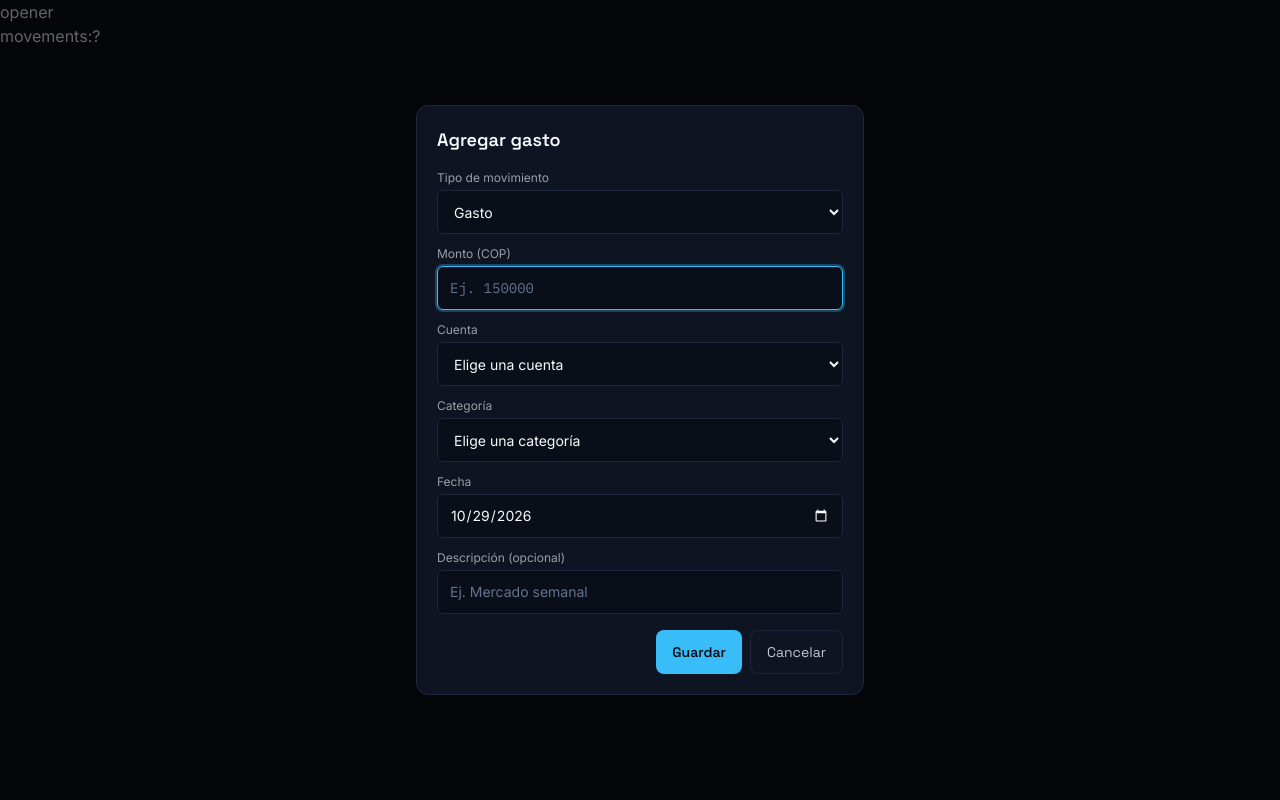
Scenario: MovementModal › posts the amount as a decimal string and revalidates finance/movements
The width and height of the screenshot is (1280, 800).
Type "25000" into the field labelled "Monto (COP)" at (640, 288), box left=437, top=266, right=843, bottom=310
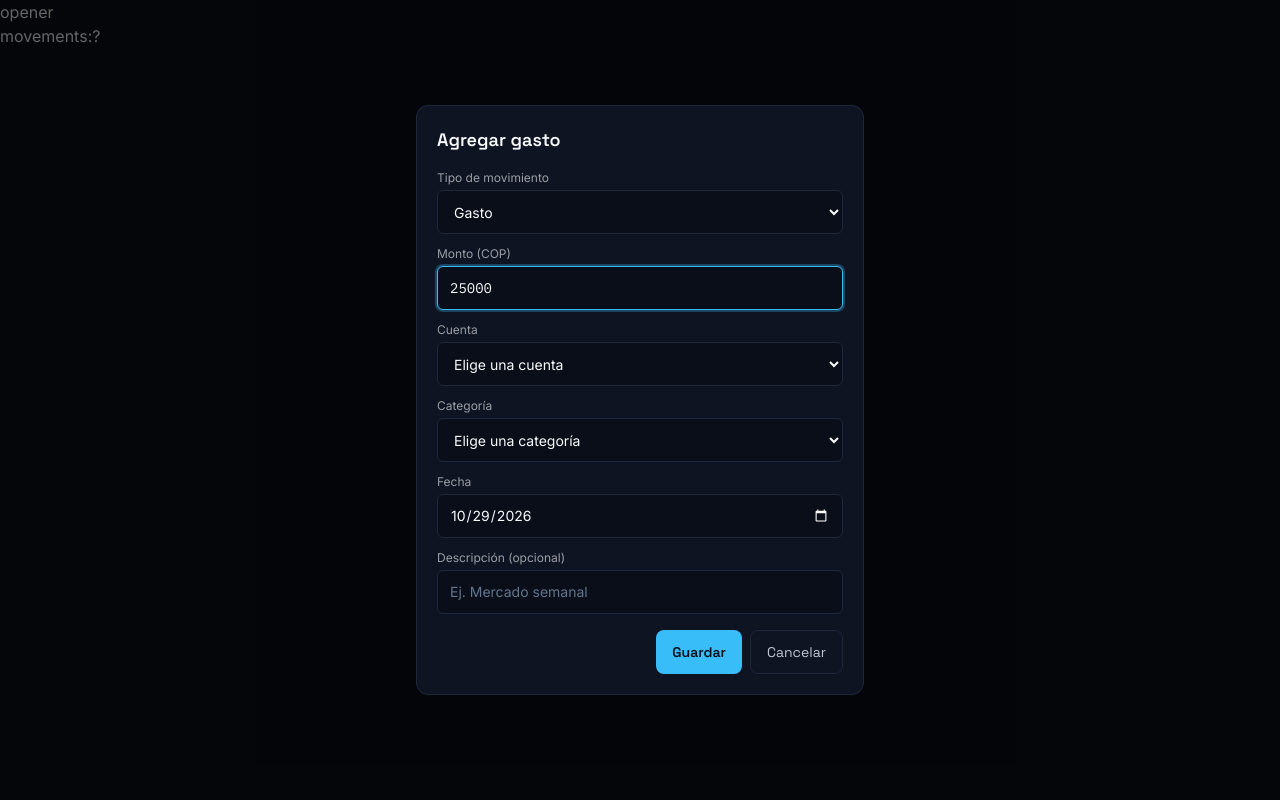
Select "Cuenta principal" in the dropdown labelled "Cuenta" at (640, 364), box left=437, top=342, right=843, bottom=386
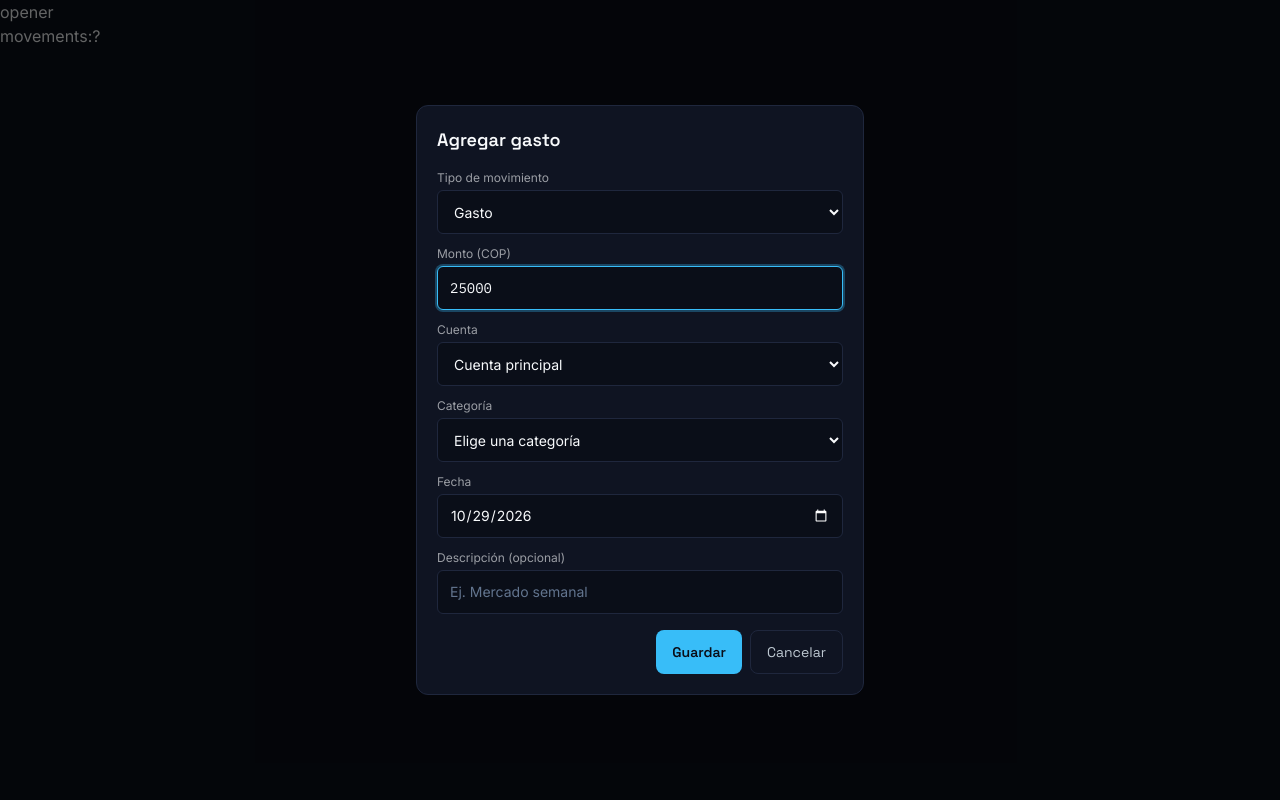
Select "Mercado" in the dropdown labelled "Categoría" at (640, 440), box left=437, top=418, right=843, bottom=462
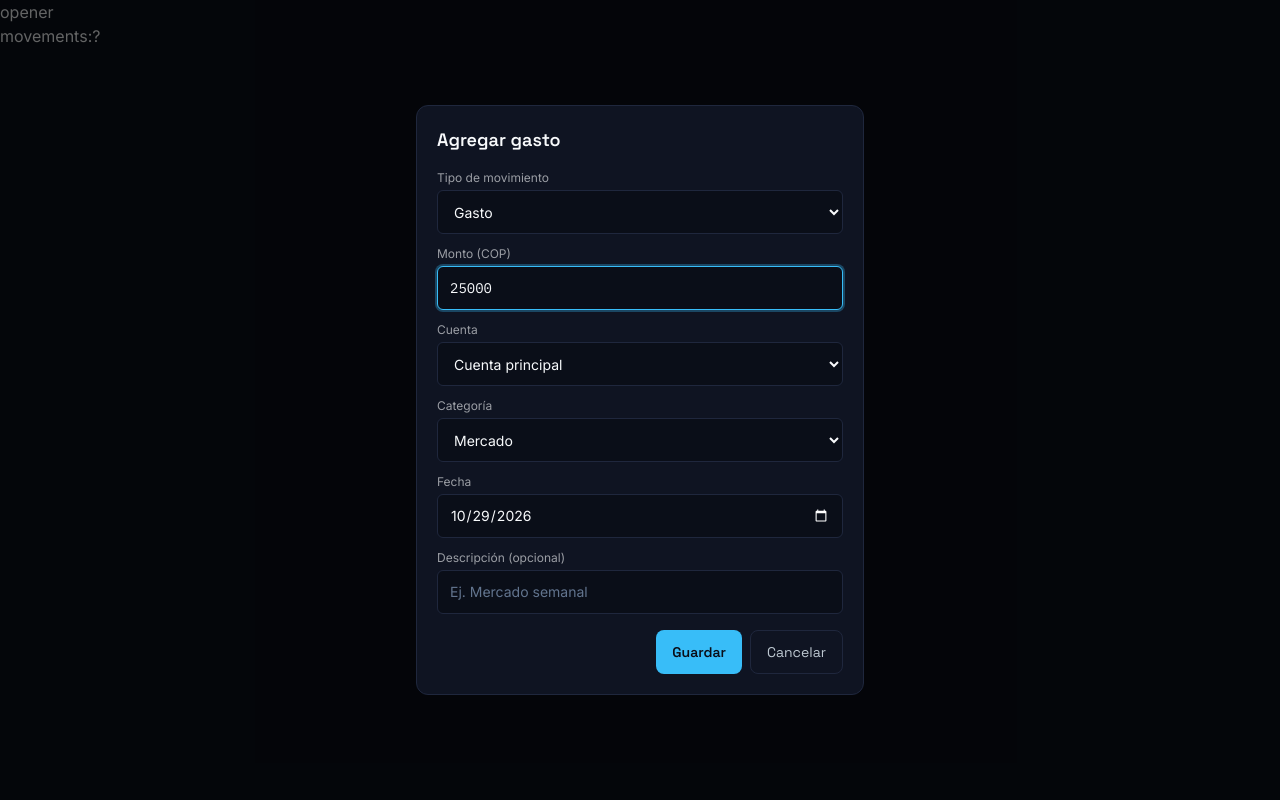
Click the button "Guardar" at (699, 652), box left=656, top=630, right=742, bottom=674
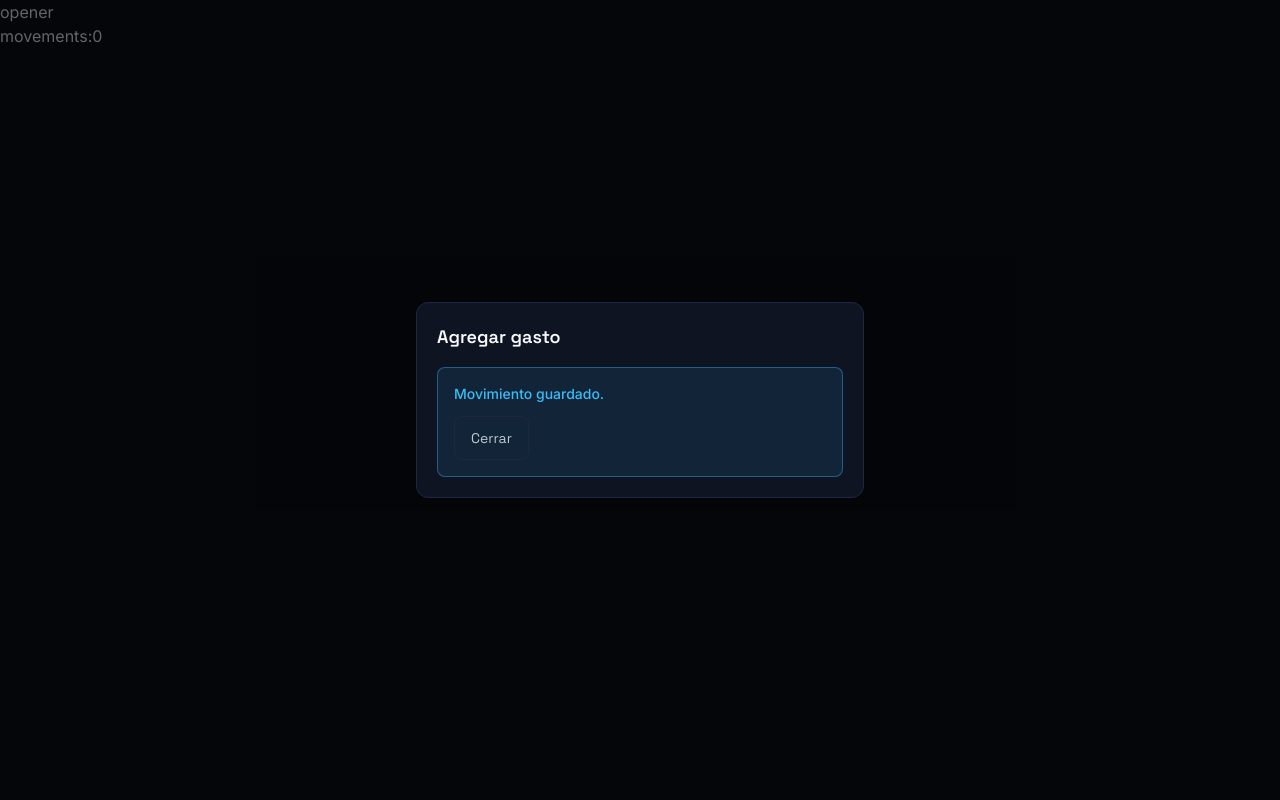
Expected: the message shows "Movimiento guardado.", left=454, top=385, right=604, bottom=402
